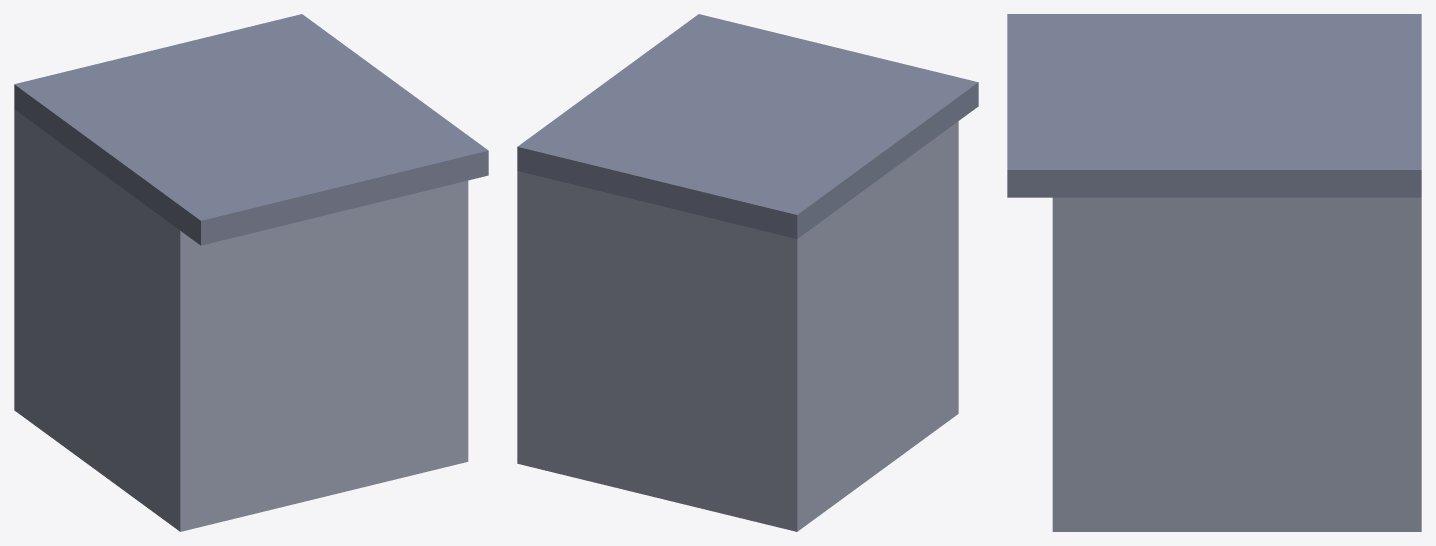
File: counter-mid.fbx
3 views of the same model, side by side, from view 1: azimuth 30°, elevation 25°; view 2: azimuth 150°, elevation 25°; view 3: azimuth 270°, elevation 25° (orthographic). The views are drawn at different scales.
Visible parts, largest first — view 1: counter_mid; view 2: counter_mid; view 3: counter_mid.
Boxes of the visible parts, x1,y1,x2,y2 form: counter_mid: (14,14,488,531); counter_mid: (517,14,978,531); counter_mid: (1007,14,1421,531).
Size of the model in its own units: 100 by 108 by 112.
